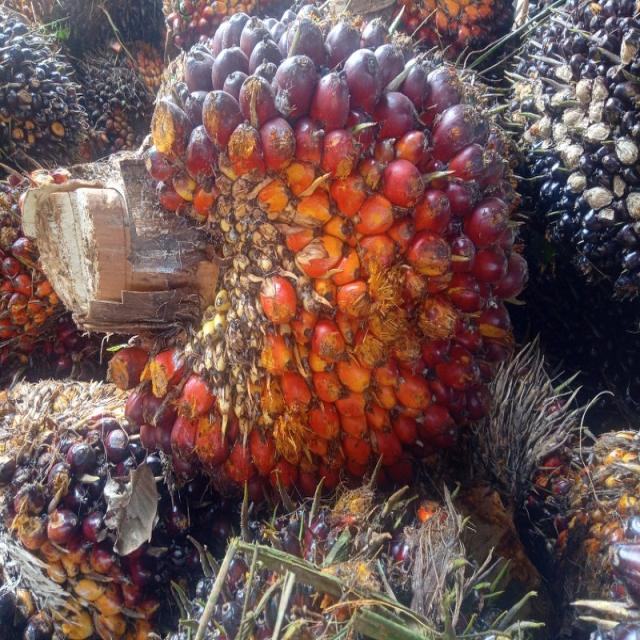fraksi 3: (101, 13, 588, 549)
